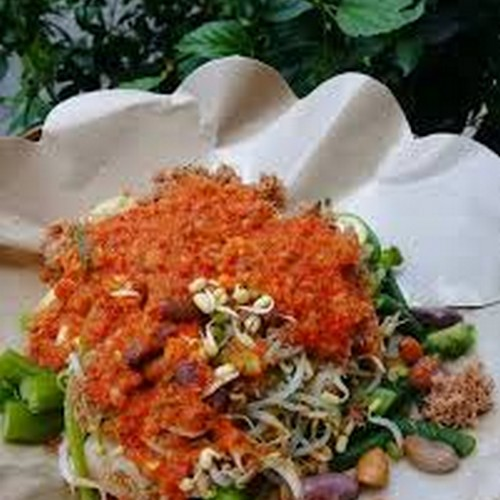serombotan: (33, 300, 461, 498)
